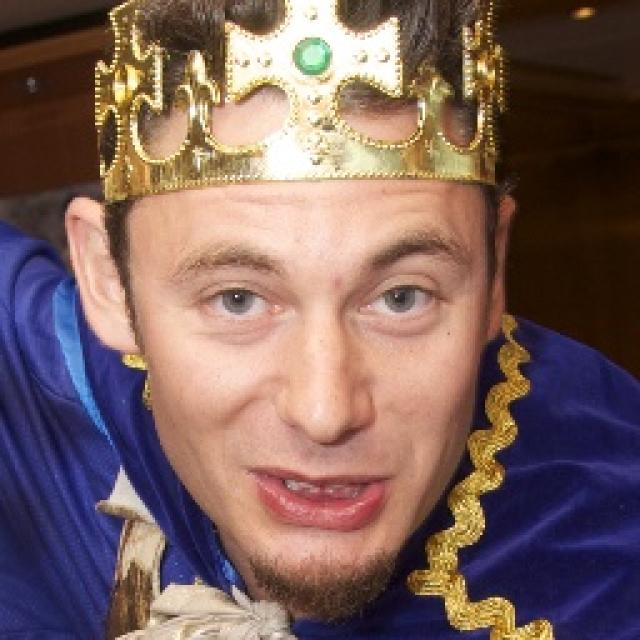earlobe: (96, 302, 140, 354)
eye: (198, 288, 282, 320), (364, 285, 439, 317)
nose: (268, 412, 382, 486)
wholeear: (64, 197, 140, 354), (482, 192, 516, 341)
